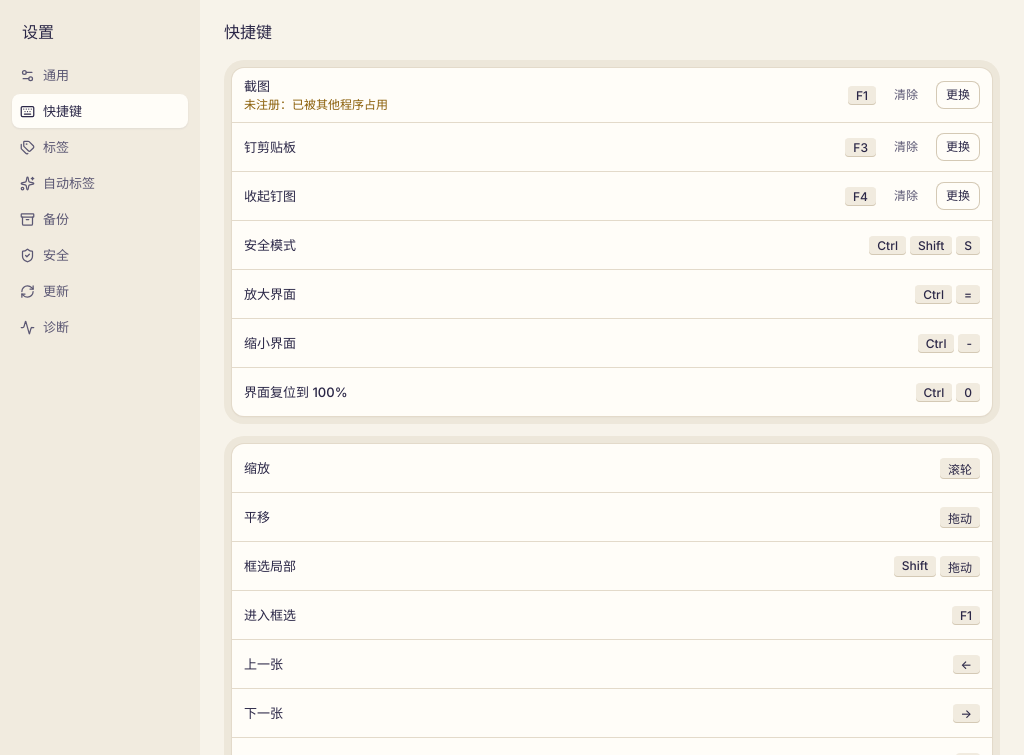
Test case: 设置：常驻与快捷键 › 按 Esc 放弃更换，不发出命令
This screenshot has width=1024, height=755.
Click the button "更换" in the row of "未注册：已被其他程序占用": (958, 95) [936,81,980,109]
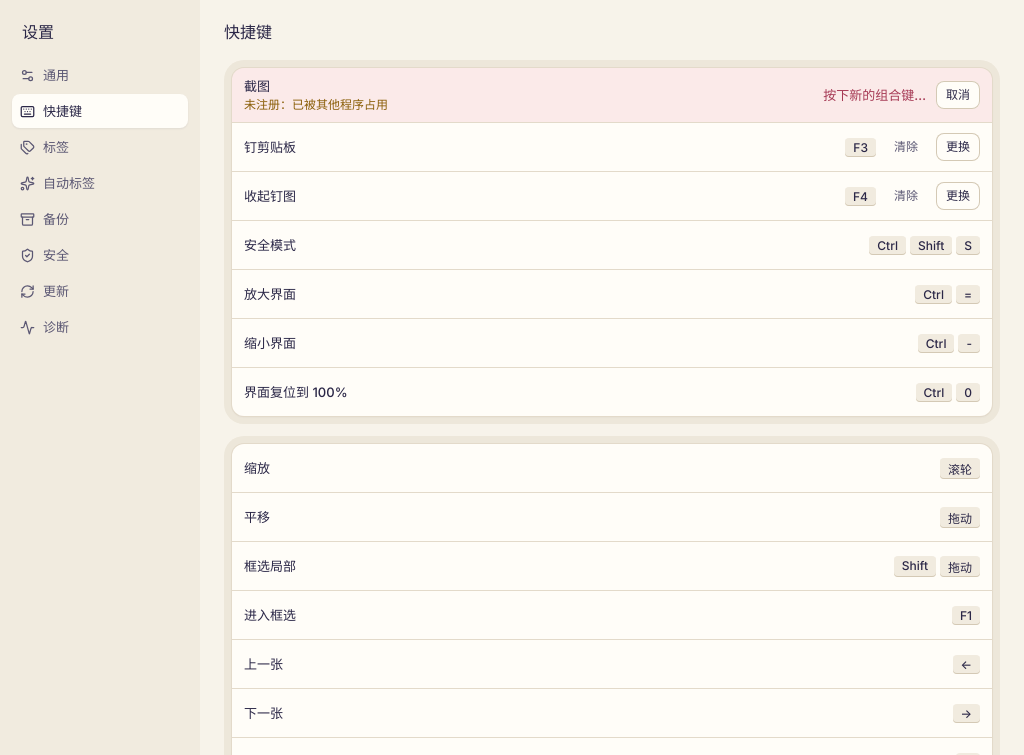
Press Escape in the field, box [788,84,928,106]
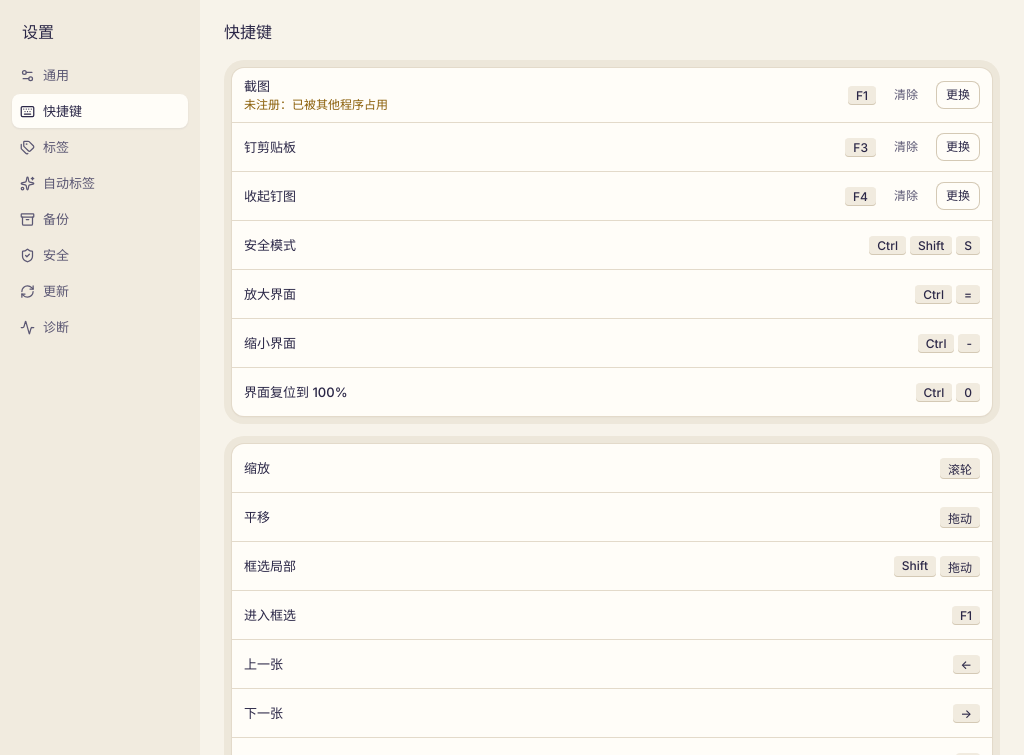
Expected: the text "F1" in the row of "未注册：已被其他程序占用" is shown, [856,88,868,102]
